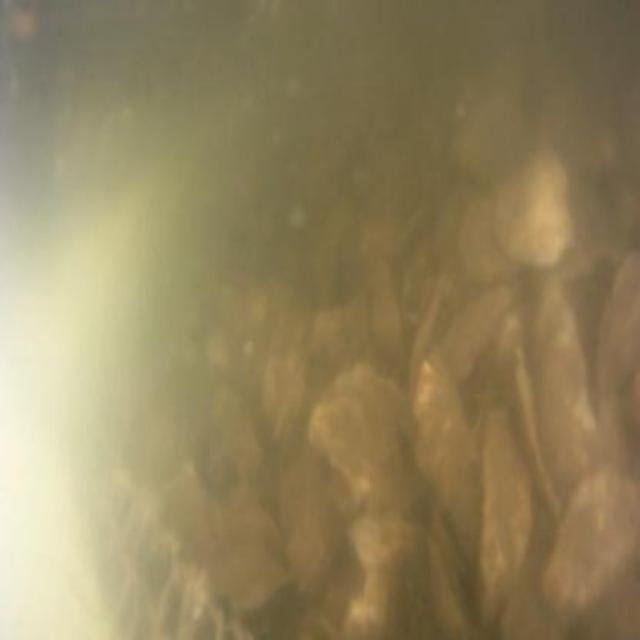Oyster-Closed: (306, 361, 426, 524), (412, 345, 483, 576), (542, 466, 640, 618), (480, 402, 538, 623), (530, 287, 594, 480), (491, 146, 577, 276), (596, 251, 640, 475), (515, 335, 561, 516), (444, 283, 521, 384), (213, 538, 289, 614), (465, 195, 515, 279), (427, 535, 468, 635), (349, 511, 418, 562)
